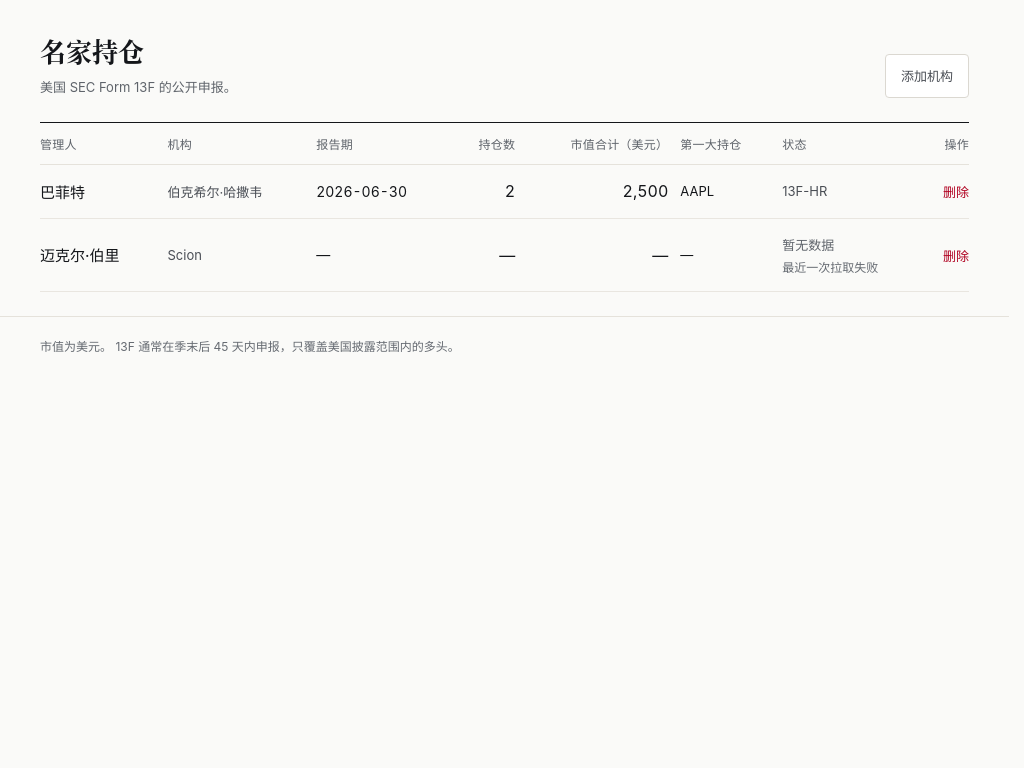
Test case: 管理员添加机构后，名单里能看到新人
Click the button "添加机构". click: (927, 76)
box: [885,54,969,98]
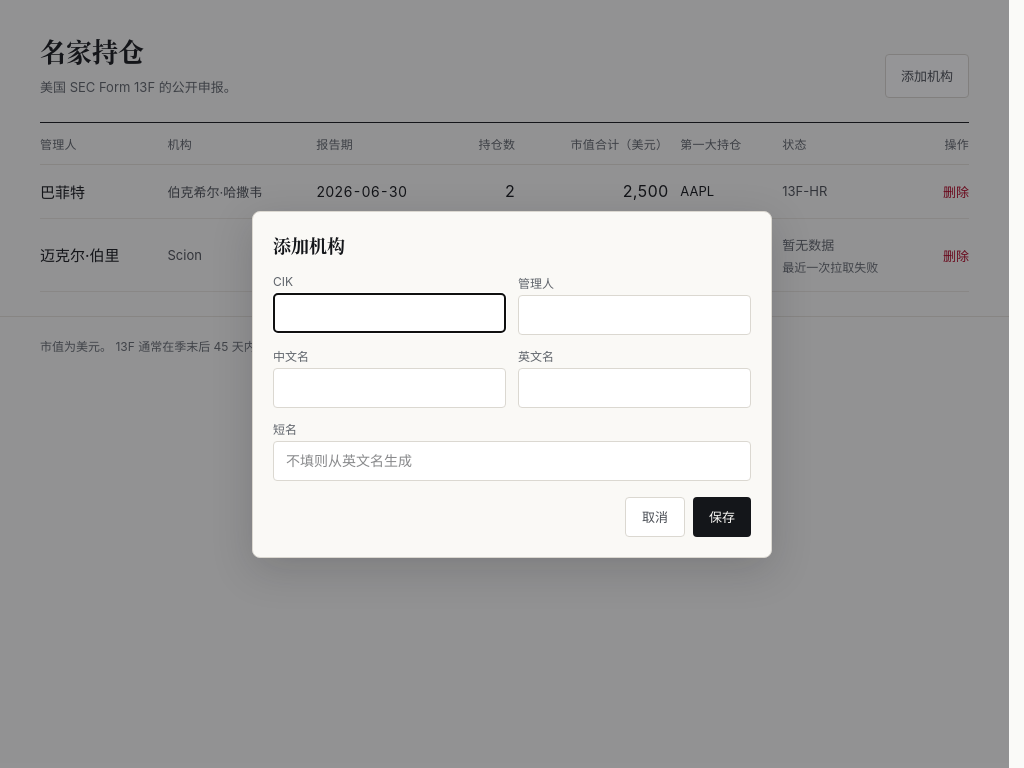
Type "1234567" into the field labelled "CIK". click: (390, 312)
box: [273,292,506,332]
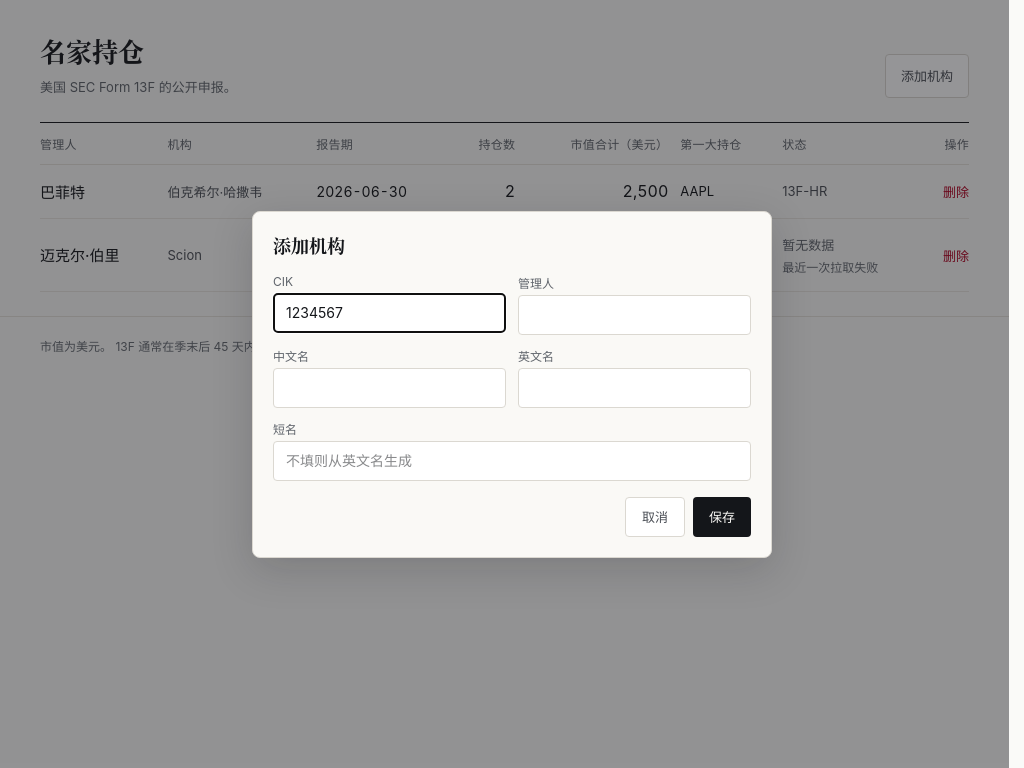
Type "李彦宏" into the field labelled "管理人". click: (634, 314)
box: [518,294,751,334]
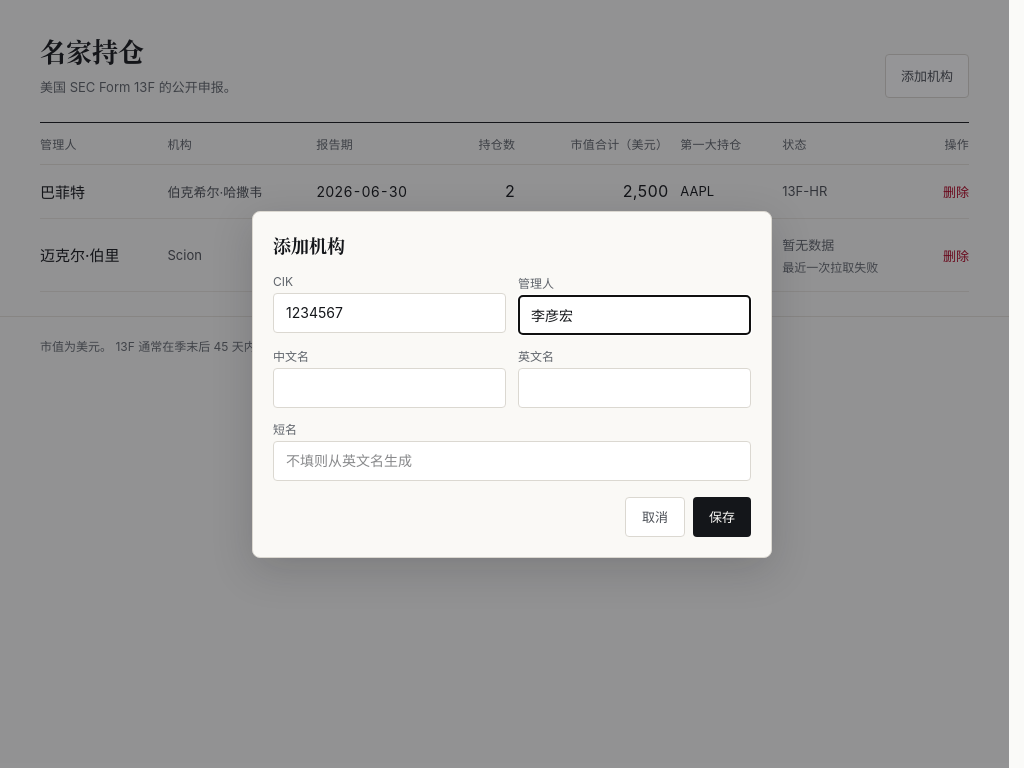
Type "百度" into the field labelled "中文名". click: (390, 388)
box: [273,368,506,408]
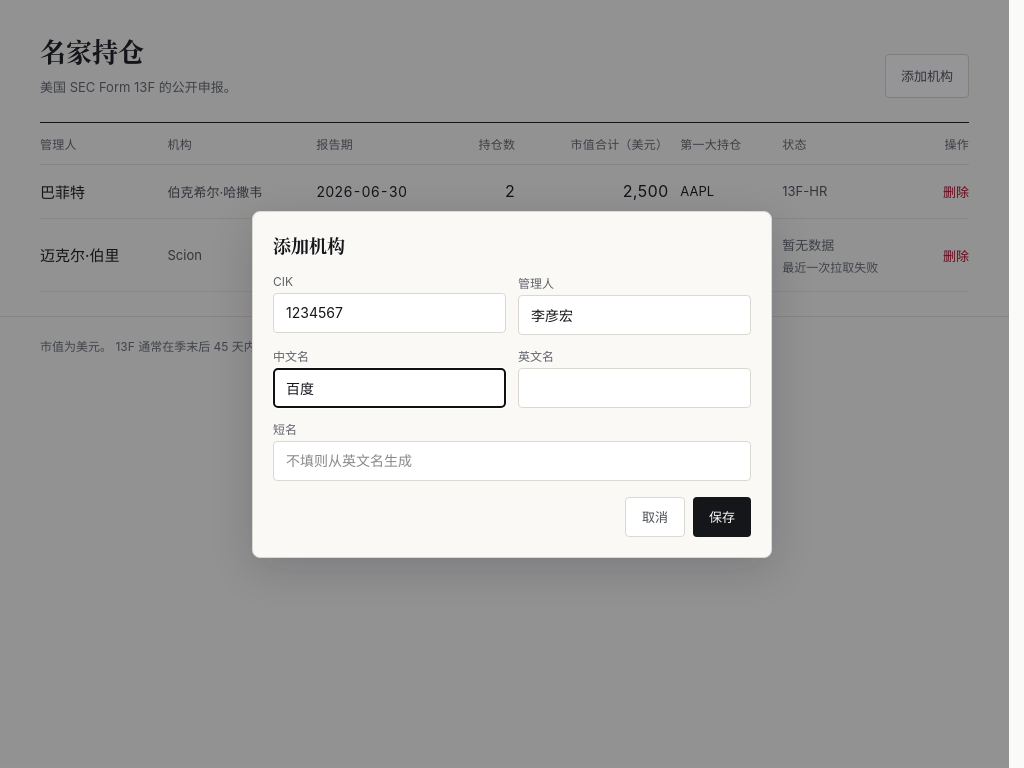
Type "Baidu, Inc." into the field labelled "英文名". click: (634, 388)
box: [518,368,751,408]
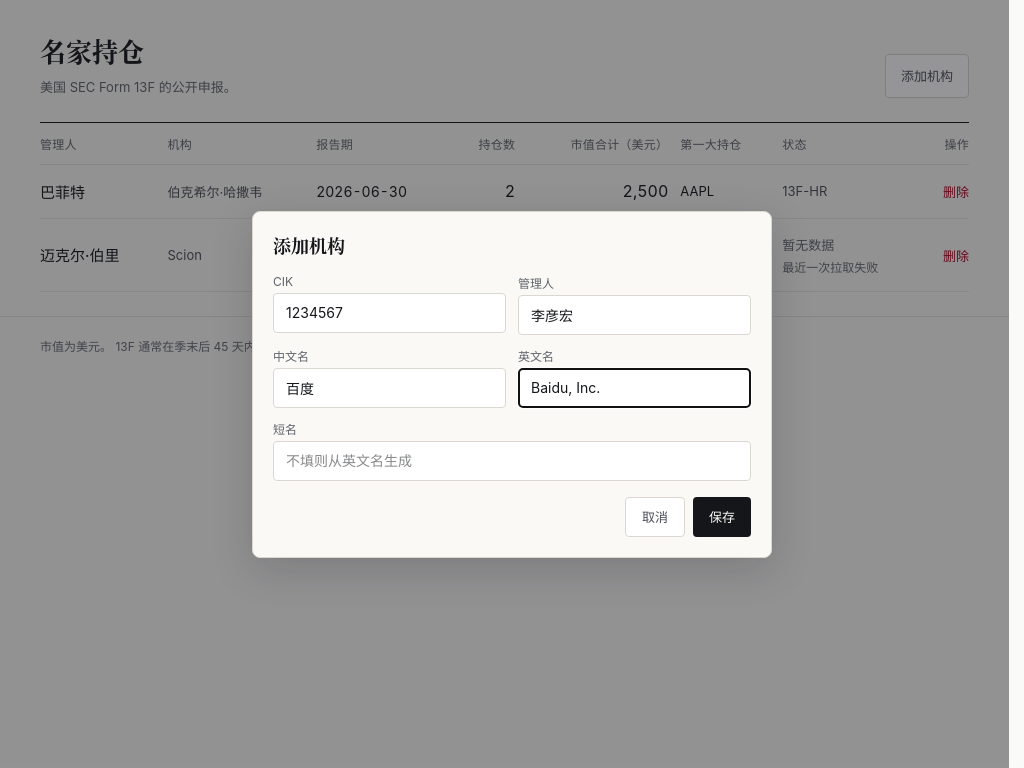
Click the button "保存". click: (722, 516)
box: [693,496,751,536]
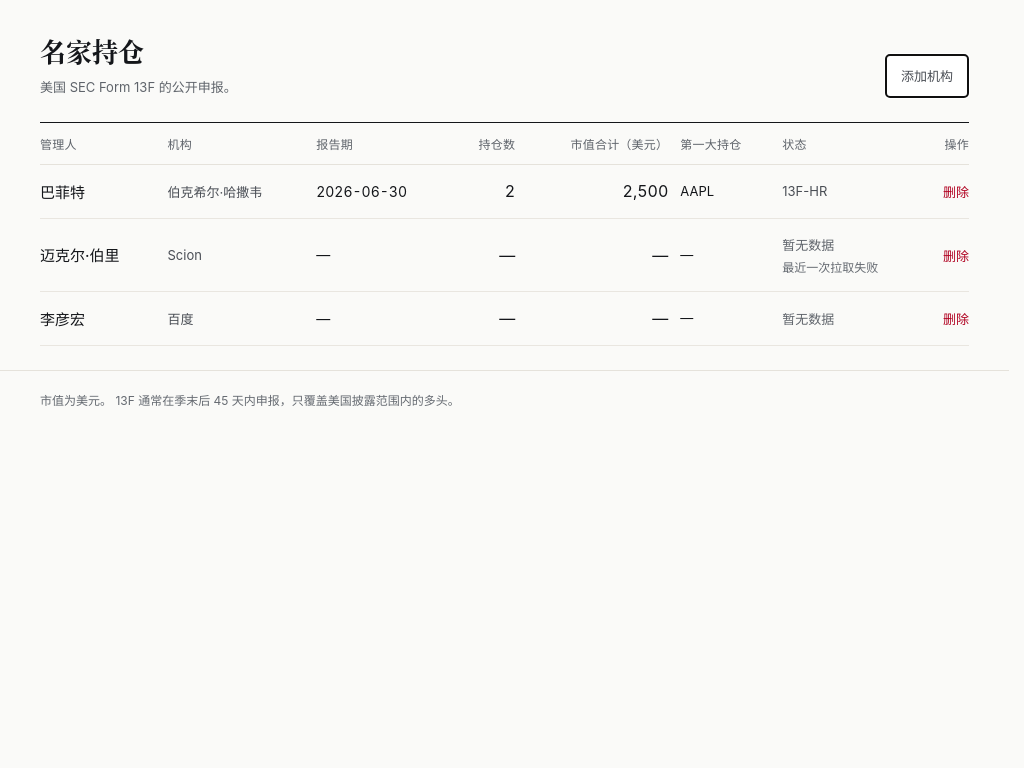
Expected: the link "李彦宏" is shown, [40,310,85,329]
Expected: the dialog is gone
